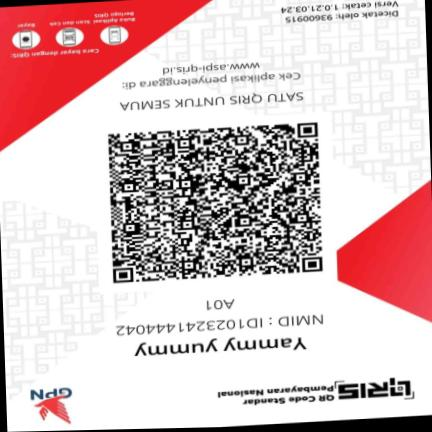Barcode_Asli: (92, 110, 339, 295)
